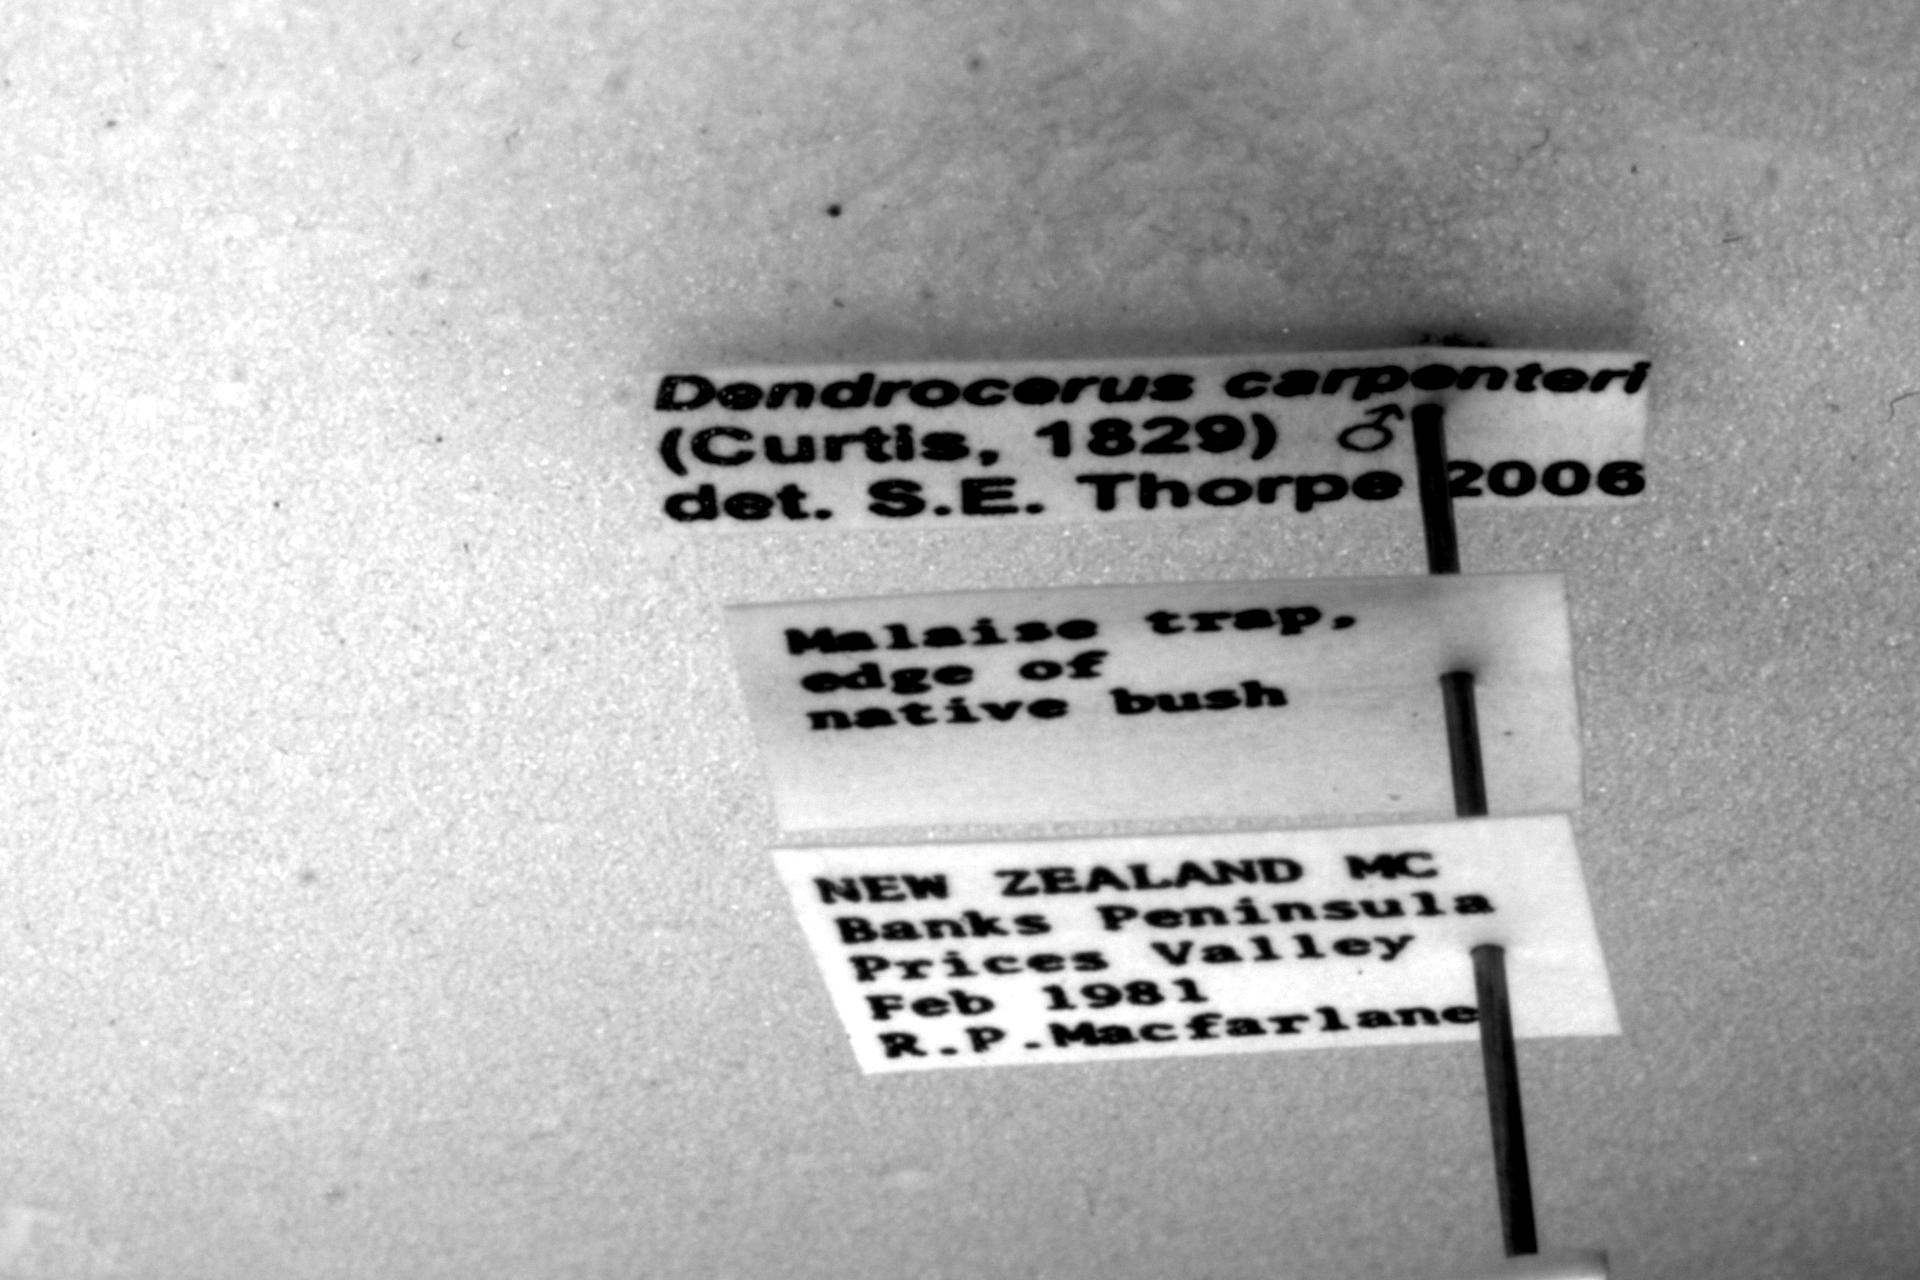typed_label: (728, 574, 1582, 832), (772, 818, 1620, 1072), (649, 345, 1650, 529)
